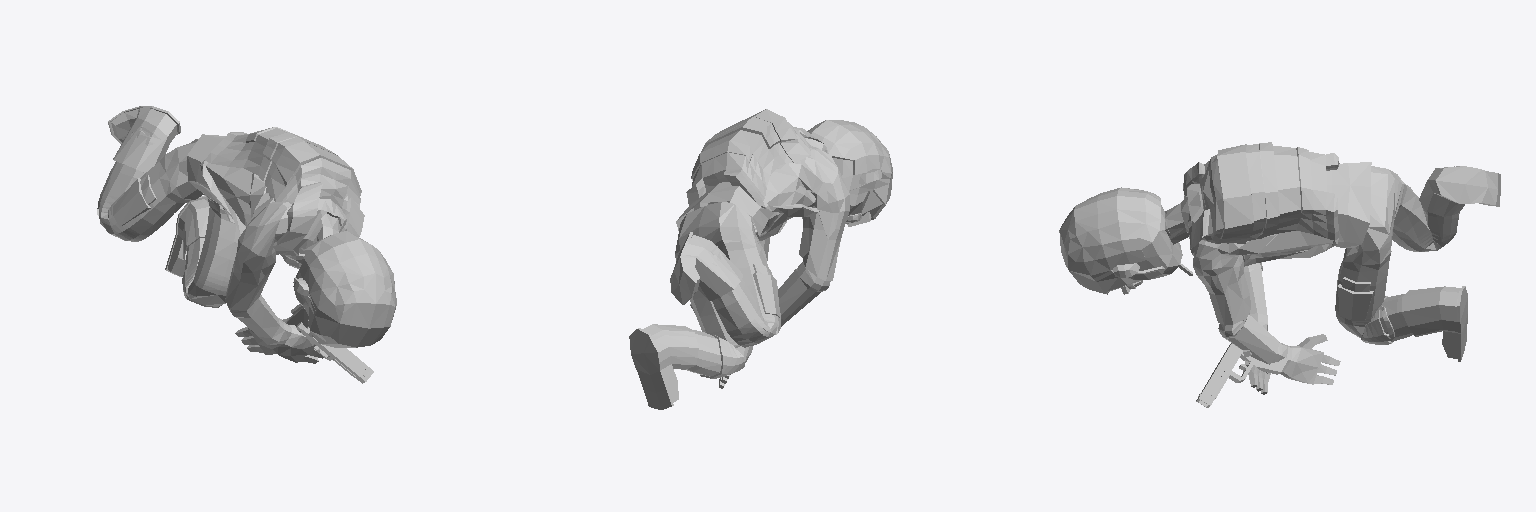
The model's file is frame_0020.obj.
3 renders of one model, left to right at view 1: azimuth 30°, elevation 25°; view 2: azimuth 150°, elevation 25°; view 3: azimuth 270°, elevation 25°, orthographic.
Visible parts, largest first — view 1: Body, Gun; view 2: Body; view 3: Body, Gun.
Boxes of the visible parts, box(x1,y1,x2,y2) form: Body: box(97, 106, 396, 363); Gun: box(296, 322, 373, 383); Body: box(629, 109, 892, 409); Body: box(1059, 142, 1500, 394); Gun: box(1196, 343, 1287, 407).
Bounding box in the file's own units: 1.42 × 2.03 × 3.4.